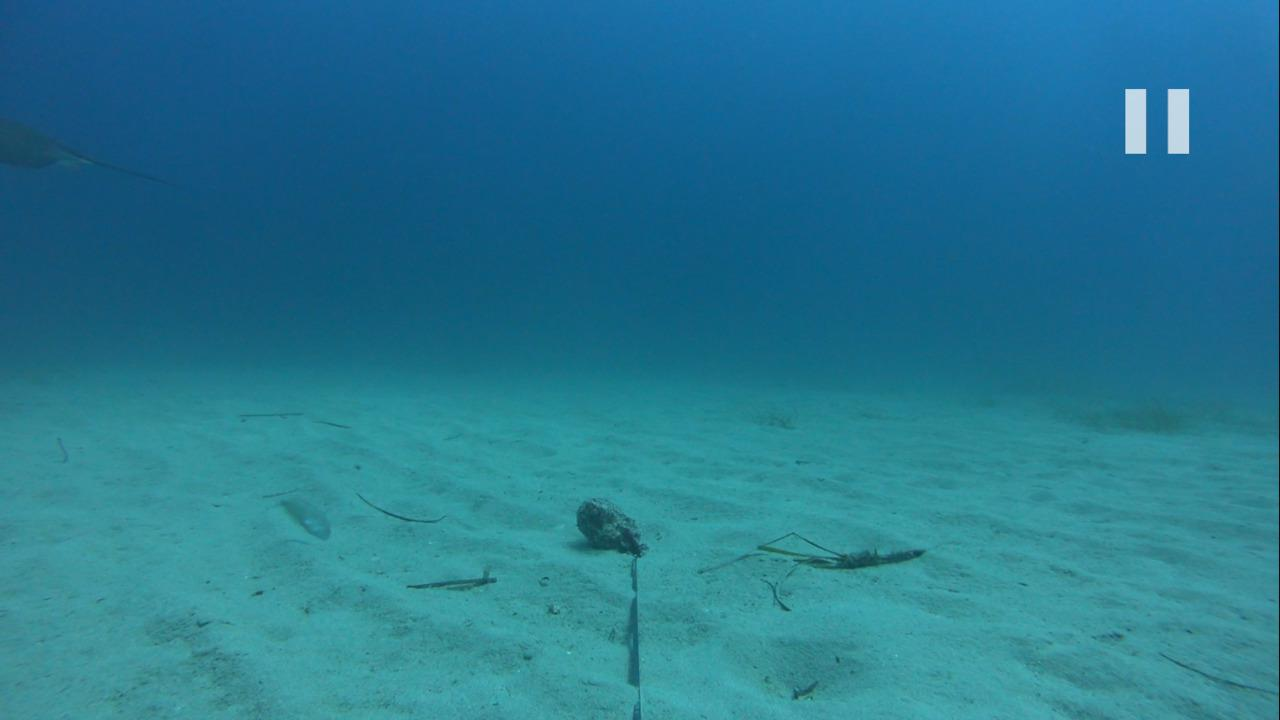raor: (258, 489, 338, 543)
